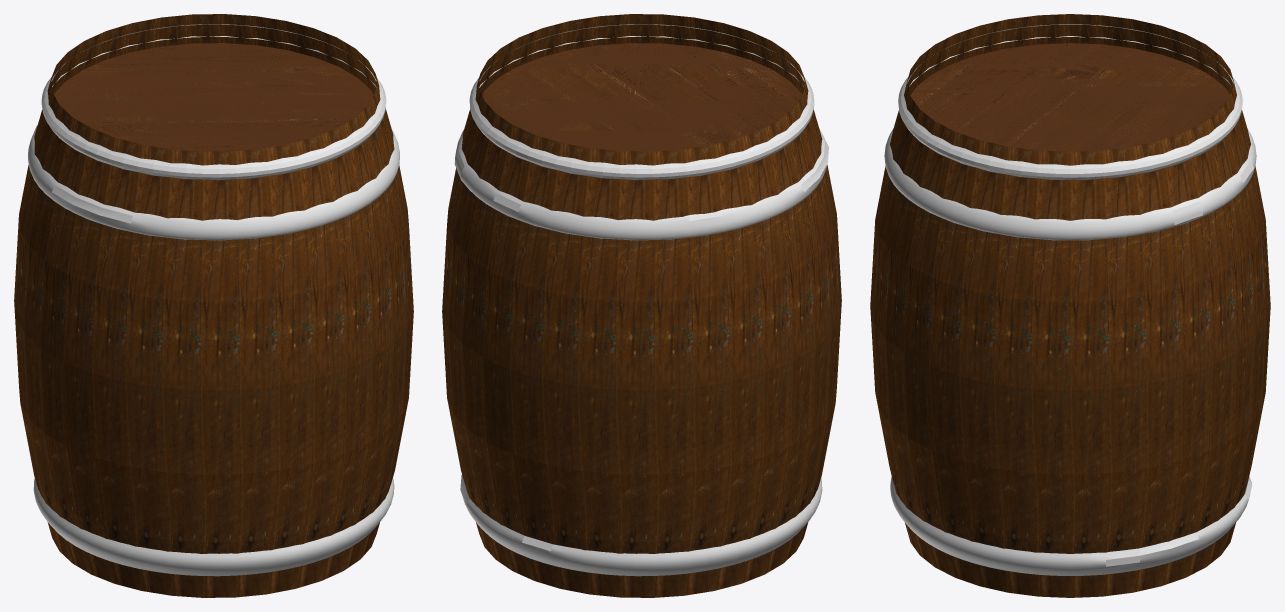
Rendered from barrel.fbx.
3 views of the same model, side by side, from view 1: azimuth 30°, elevation 25°; view 2: azimuth 150°, elevation 25°; view 3: azimuth 270°, elevation 25° (orthographic).
Parts seen in each view (by area): view 1: Cylinder, Circle.003, Circle; view 2: Cylinder, Circle.003, Circle; view 3: Cylinder, Circle.003, Circle.
Boxes of the visible parts, left/top/right/bottom form: Cylinder: left=14, top=14, right=413, bottom=597; Circle.003: left=54, top=43, right=373, bottom=151; Circle: left=28, top=24, right=399, bottom=576; Cylinder: left=442, top=14, right=841, bottom=597; Circle.003: left=482, top=43, right=801, bottom=151; Circle: left=454, top=24, right=828, bottom=576; Cylinder: left=870, top=14, right=1270, bottom=597; Circle.003: left=910, top=43, right=1230, bottom=151; Circle: left=884, top=24, right=1256, bottom=575.
Bounding box in the file's own units: 24.55 × 30.19 × 24.55.
2 materials, 1 textured.
